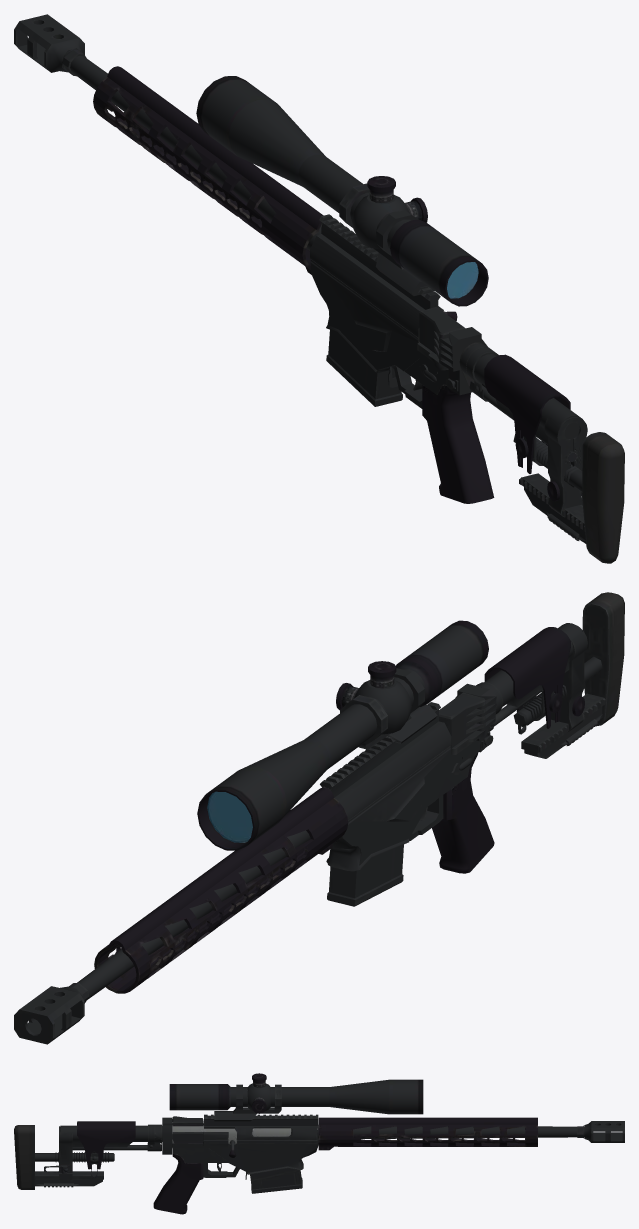
Rendered from guns_sniper.92557569a7.glb.
3 renders of one model, top to bottom at view 1: azimuth 30°, elevation 25°; view 2: azimuth 150°, elevation 25°; view 3: azimuth 270°, elevation 25°, orthographic. The views are drawn at different scales.
Visible parts, largest first — view 1: LPAimMain_LowPoly_06, LPCooler_LowPoly_05, LPBody_LowPoly_07, LPHandle_LowPoly_05, LPButtRubber_LowPoly_05, LPRuggerButt_LowPoly_06, LPmuzzlebrake_LowPoly_05, LPButtMiddle_LowPoly_05, LPmagazine_LowPoly_06, LPbarrel_LowPoly_08, LPAimConnector_LowPoly_05, PicatinnyRail_LowPoly_06LP (+4 smaller); view 2: LPAimMain_LowPoly_06, LPCooler_LowPoly_05, LPBody_LowPoly_07, LPButtRubber_LowPoly_05, LPHandle_LowPoly_05, LPRuggerButt_LowPoly_06, LPmuzzlebrake_LowPoly_05, LPbarrel_LowPoly_08, LPmagazine_LowPoly_06, LPAimConnector_LowPoly_05, PicatinnyRail_LowPoly_06LP, LPconnectorBody_LowPoly_05 (+6 smaller); view 3: LPAimMain_LowPoly_06, LPCooler_LowPoly_05, LPBody_LowPoly_07, LPHandle_LowPoly_05, LPRuggerButt_LowPoly_06, LPbarrel_LowPoly_08, LPButtRubber_LowPoly_05, LPmagazine_LowPoly_06, PicatinnyRail_LowPoly_06LP, LPAimConnector_LowPoly_05, LPGate_LowPoly_08, LPmuzzlebrake_LowPoly_05 (+7 smaller).
Part boxes in pixels (box(x1,y1,x2,y2)): LPAimMain_LowPoly_06: box(196, 76, 488, 306); LPCooler_LowPoly_05: box(93, 66, 323, 274); LPBody_LowPoly_07: box(310, 234, 448, 408); LPHandle_LowPoly_05: box(422, 384, 494, 503); LPButtRubber_LowPoly_05: box(582, 432, 624, 563); LPRuggerButt_LowPoly_06: box(484, 354, 570, 473); LPmuzzlebrake_LowPoly_05: box(14, 14, 84, 72); LPButtMiddle_LowPoly_05: box(544, 416, 587, 517); LPmagazine_LowPoly_06: box(326, 330, 402, 406); LPbarrel_LowPoly_08: box(70, 56, 321, 250); LPAimConnector_LowPoly_05: box(339, 183, 434, 295); PicatinnyRail_LowPoly_06LP: box(319, 214, 440, 309); LPAimMain_LowPoly_06: box(197, 620, 488, 850); LPCooler_LowPoly_05: box(94, 787, 348, 993); LPBody_LowPoly_07: box(326, 721, 480, 871); LPButtRubber_LowPoly_05: box(582, 592, 624, 726); LPHandle_LowPoly_05: box(432, 752, 494, 873); LPRuggerButt_LowPoly_06: box(484, 627, 570, 728); LPmuzzlebrake_LowPoly_05: box(14, 986, 84, 1044); LPbarrel_LowPoly_08: box(70, 830, 310, 1009); LPmagazine_LowPoly_06: box(327, 844, 403, 906); LPAimConnector_LowPoly_05: box(340, 668, 437, 749); PicatinnyRail_LowPoly_06LP: box(320, 702, 440, 797); LPconnectorBody_LowPoly_05: box(439, 692, 485, 754); LPAimMain_LowPoly_06: box(169, 1079, 423, 1114); LPCooler_LowPoly_05: box(318, 1117, 537, 1150); LPBody_LowPoly_07: box(172, 1123, 318, 1177); LPHandle_LowPoly_05: box(153, 1153, 203, 1214); LPRuggerButt_LowPoly_06: box(77, 1121, 135, 1169); LPbarrel_LowPoly_08: box(317, 1125, 584, 1138); LPButtRubber_LowPoly_05: box(14, 1125, 34, 1189); LPmagazine_LowPoly_06: box(250, 1168, 302, 1193); PicatinnyRail_LowPoly_06LP: box(204, 1114, 318, 1125); LPAimConnector_LowPoly_05: box(214, 1084, 281, 1121); LPGate_LowPoly_08: box(172, 1125, 291, 1157); LPmuzzlebrake_LowPoly_05: box(584, 1121, 624, 1142).
Size of the model in its own units: 2.52 by 7.9 by 32.47.
1 material, 1 textured.
